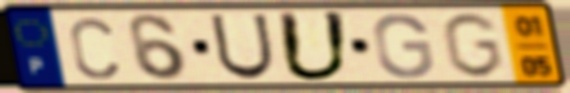6: (126, 11, 192, 83)
C: (66, 15, 122, 81)
G: (438, 10, 506, 80), (369, 11, 437, 81)
U: (274, 9, 354, 84), (207, 12, 278, 82)
